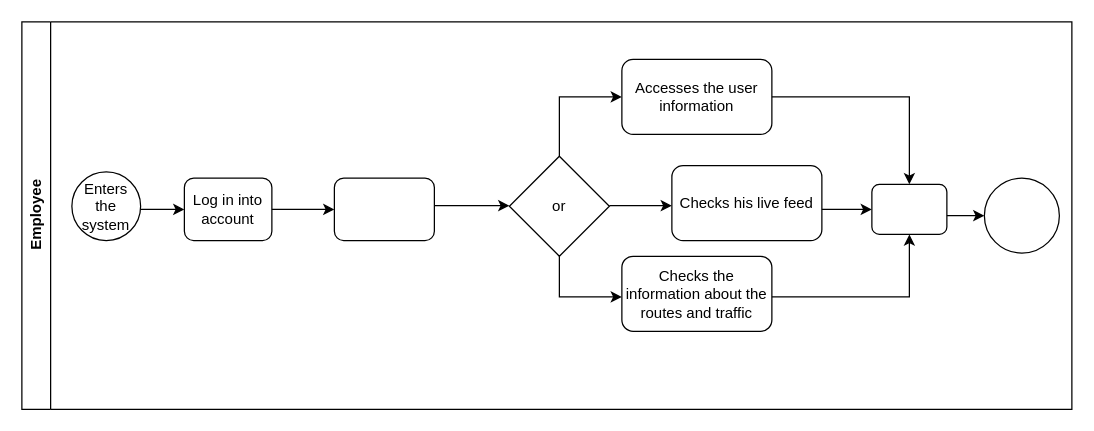
The diagram is 1094 pixels wide and 431 high, and some of its shapes have lost their labels. The centre of each missing label's shape, as x and y in pixels:
"Check in the work" goes at point (383, 209).
"Check out" goes at point (909, 208).
"End session" goes at point (1021, 215).
